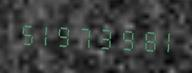eight: (131, 21, 149, 55)
five: (17, 15, 35, 49)
nine: (55, 17, 73, 51), (112, 20, 130, 54)
one: (36, 16, 54, 50), (150, 22, 168, 56)
seven: (74, 18, 92, 52)
three: (93, 19, 111, 53)
